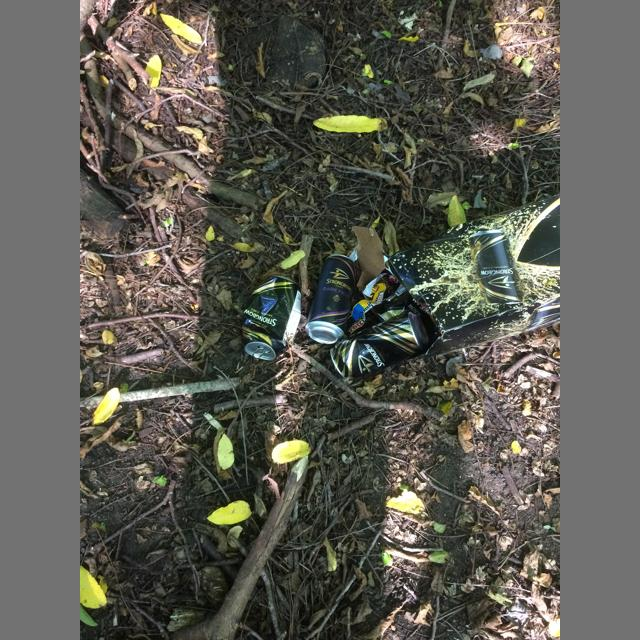litter: (351, 193, 560, 361), (330, 312, 429, 379), (242, 275, 301, 361), (305, 254, 356, 344), (345, 283, 386, 336), (376, 284, 427, 322), (363, 273, 401, 301), (252, 348, 266, 358)
